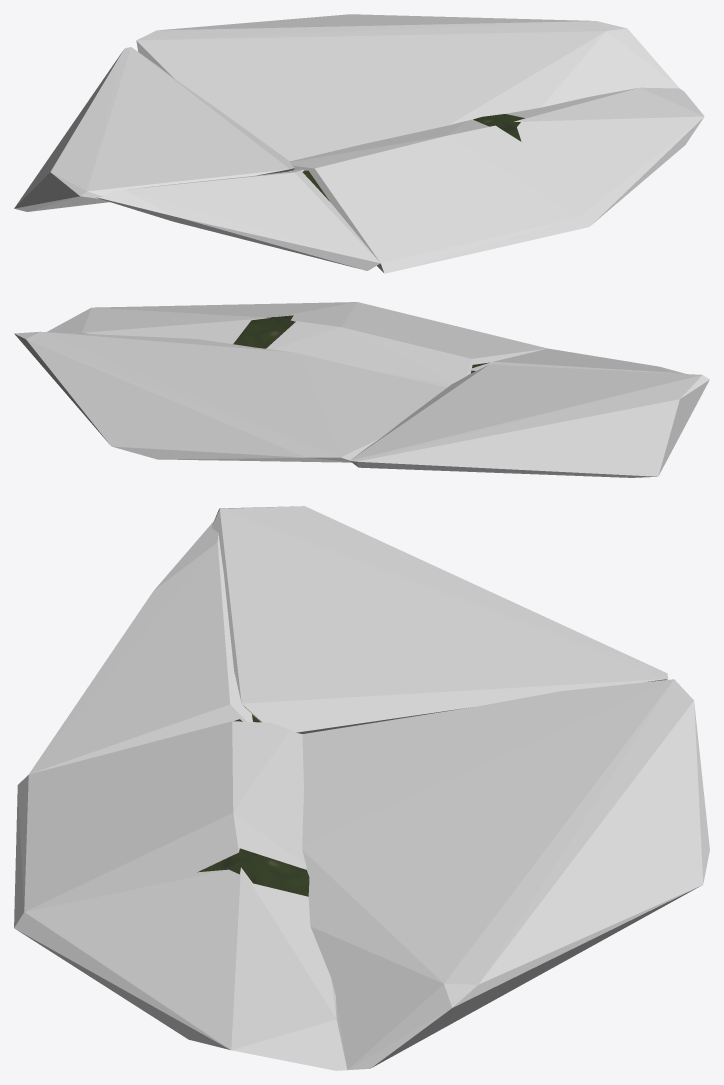
File: SM_Leaf_01.fbx
3 views of the same model, one above another, from view 1: azimuth 30°, elevation 25°; view 2: azimuth 150°, elevation 25°; view 3: azimuth 270°, elevation 25° (orthographic). The views are drawn at different scales.
Parts seen in each view (by area): view 1: SM_Leaf_01_ConvexHulls, SM_Leaf_01_LOD0; view 2: SM_Leaf_01_ConvexHulls, SM_Leaf_01_LOD0; view 3: SM_Leaf_01_ConvexHulls, SM_Leaf_01_LOD0.
Boxes of the visible parts, bbox=[...] form: SM_Leaf_01_ConvexHulls: bbox=[14, 14, 704, 273]; SM_Leaf_01_LOD0: bbox=[302, 114, 524, 201]; SM_Leaf_01_ConvexHulls: bbox=[14, 302, 709, 477]; SM_Leaf_01_LOD0: bbox=[233, 315, 489, 373]; SM_Leaf_01_ConvexHulls: bbox=[14, 506, 709, 1070]; SM_Leaf_01_LOD0: bbox=[197, 714, 309, 896].
Bounding box in the file's own units: 22.44 × 14.68 × 3.01.
